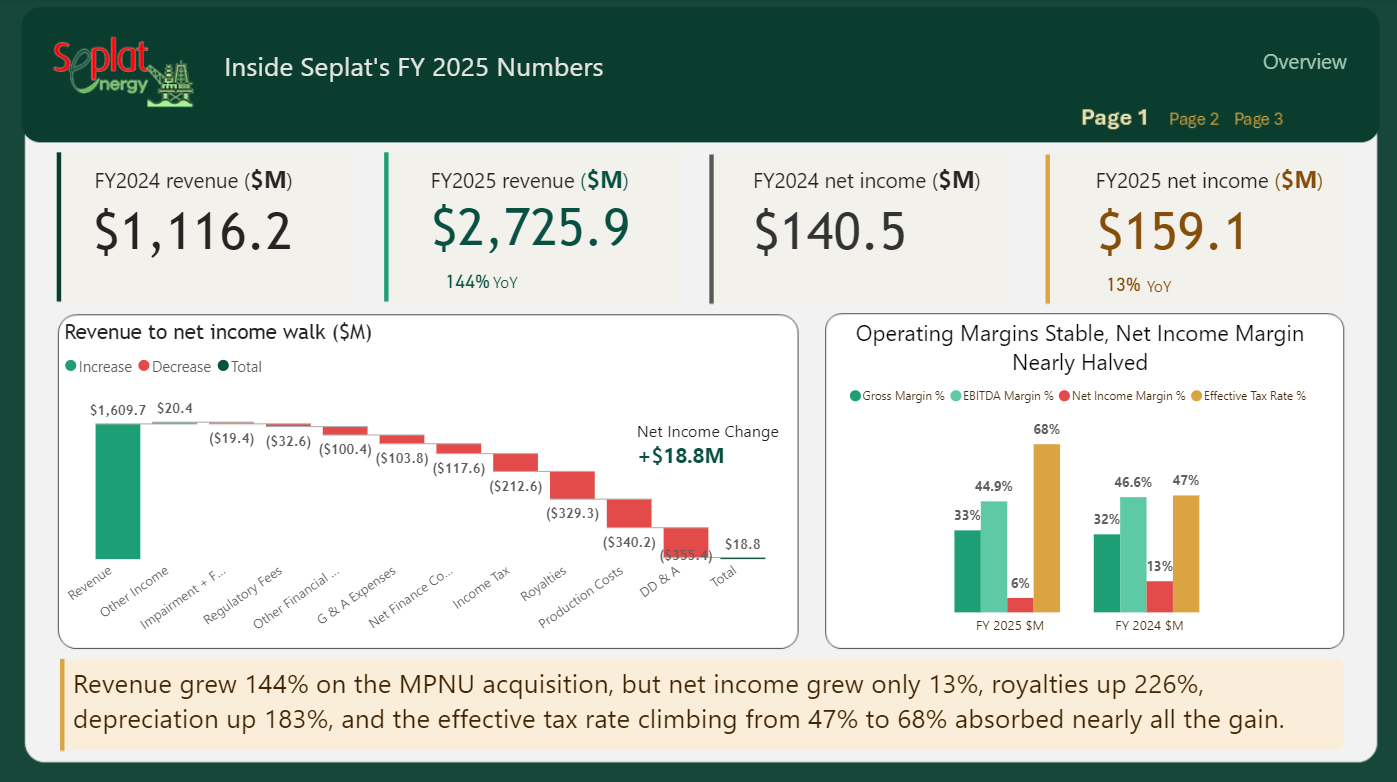

What the dashboard file says about the page in this screenshot:
{"tool":"powerbi","page":{"name":"Page 1","canvas":[1280,720],"ordinal":0},"visuals":[{"type":"textbox","box":[84.9,145.3,240.7,46.5],"z":0},{"type":"textbox","box":[390.1,145.6,240.4,46.7],"z":1000},{"type":"textbox","box":[682.6,145.3,240.7,46.5],"z":2000},{"type":"textbox","box":[993,145.3,240.7,46.5],"z":3000},{"type":"card","fields":{"Values":["Sum(Raw_IncomeStatement.Amount)"]},"box":[66.3,166.3,227.9,86],"z":4000},{"type":"card","fields":{"Values":["Sum(Raw_IncomeStatement.Amount)"]},"box":[386,174.4,201.2,62.8],"z":5000},{"type":"card","fields":{"Values":["Sum(Raw_IncomeStatement.Amount)"]},"box":[666.3,166.3,183.7,86],"z":6000},{"type":"card","fields":{"Values":["Sum(Raw_IncomeStatement.Amount)"]},"box":[993,166.3,152.3,86],"z":7000},{"type":"card","fields":{"Values":["Measures (2).Revenue YoY %"]},"box":[402.3,237.2,52.3,44.2],"z":8000},{"type":"textbox","box":[446.5,244.2,46.5,37.2],"z":9000},{"type":"card","fields":{"Values":["Measures (2).Net Income YoY %"]},"box":[993,240.7,60.5,43],"z":10000},{"type":"textbox","box":[1039.5,247,43,36],"z":11000},{"type":"waterfallChart","title":"Revenue to net income walk ($M)","fields":{"Category":["Cost_Breakdown.Item"],"Y":["Sum(Cost_Breakdown.Signed Change)"]},"box":[58.1,293,667.4,295.3],"z":12000},{"type":"textbox","box":[576.9,376.4,148.4,64.6],"z":13000},{"type":"clusteredColumnChart","title":"Operating Margins Stable, Net Income Margin Nearly Halved","fields":{"Y":["Measures (2).Gross Margin %","Raw_IncomeStatement.EBITDA Margin %","Measures (2).Net Income Margin %","Measures (2).Effective Tax Rate %"],"Category":["Cost_Breakdown.Year"]},"box":[752.3,290.7,465.1,297.7],"z":14000},{"type":"textbox","box":[66.3,601.2,1151.2,88.4],"z":15000},{"type":"textbox","box":[1145.4,40.7,103.5,36],"z":16000},{"type":"textbox","box":[203.5,40.7,383.7,45.3],"z":17000},{"type":"pageNavigator","box":[976.7,86,198.8,40.7],"z":18000}]}

Visuals, with their boxes in screenshot pixels (x1, y1, x2, y2), scaled from the page's 1280x720 canvas onto the 1397x782 screenshot:
textbox: {"left": 93, "top": 158, "right": 355, "bottom": 208}
textbox: {"left": 426, "top": 158, "right": 688, "bottom": 209}
textbox: {"left": 745, "top": 158, "right": 1008, "bottom": 208}
textbox: {"left": 1084, "top": 158, "right": 1346, "bottom": 208}
card - Sum(Raw_IncomeStatement.Amount): {"left": 72, "top": 181, "right": 321, "bottom": 274}
card - Sum(Raw_IncomeStatement.Amount): {"left": 421, "top": 189, "right": 641, "bottom": 258}
card - Sum(Raw_IncomeStatement.Amount): {"left": 727, "top": 181, "right": 928, "bottom": 274}
card - Sum(Raw_IncomeStatement.Amount): {"left": 1084, "top": 181, "right": 1250, "bottom": 274}
card - Measures (2).Revenue YoY %: {"left": 439, "top": 258, "right": 496, "bottom": 306}
textbox: {"left": 487, "top": 265, "right": 538, "bottom": 306}
card - Measures (2).Net Income YoY %: {"left": 1084, "top": 261, "right": 1150, "bottom": 308}
textbox: {"left": 1135, "top": 268, "right": 1181, "bottom": 307}
"Revenue to net income walk ($M)" waterfallChart: {"left": 63, "top": 318, "right": 792, "bottom": 639}
textbox: {"left": 630, "top": 409, "right": 792, "bottom": 479}
"Operating Margins Stable, Net Income Margin Nearly Halved" clusteredColumnChart: {"left": 821, "top": 316, "right": 1329, "bottom": 639}
textbox: {"left": 72, "top": 653, "right": 1329, "bottom": 749}
textbox: {"left": 1250, "top": 44, "right": 1363, "bottom": 83}
textbox: {"left": 222, "top": 44, "right": 641, "bottom": 93}
pageNavigator: {"left": 1066, "top": 93, "right": 1283, "bottom": 138}
